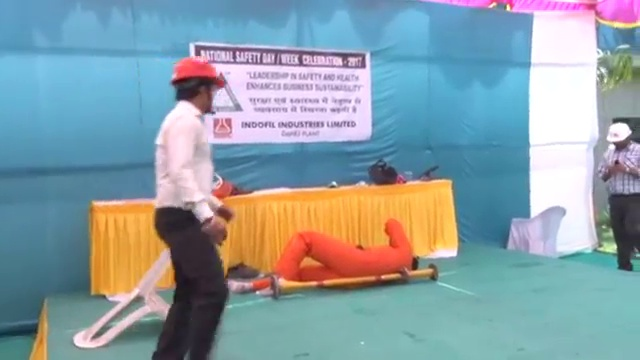helmet: (169, 56, 226, 89), (606, 120, 633, 143)
helmet_on: (168, 54, 226, 120), (605, 119, 635, 154)
person: (145, 56, 236, 360), (229, 218, 422, 295), (597, 118, 640, 274)
